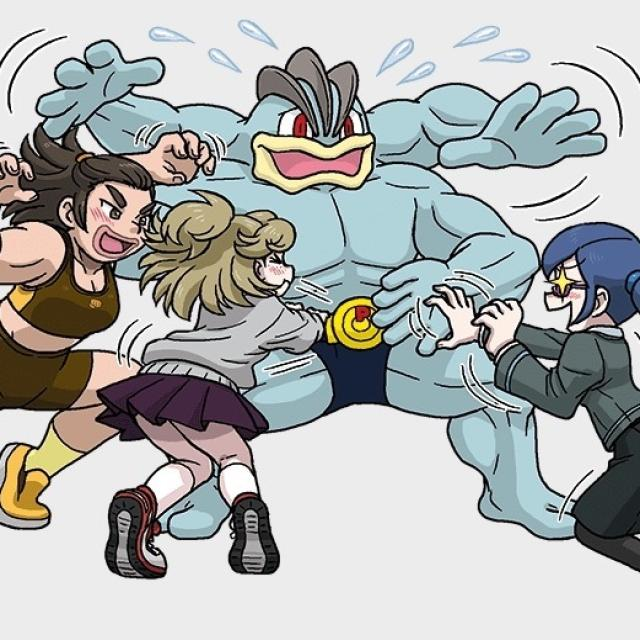Machamp: (175, 36, 544, 424)
